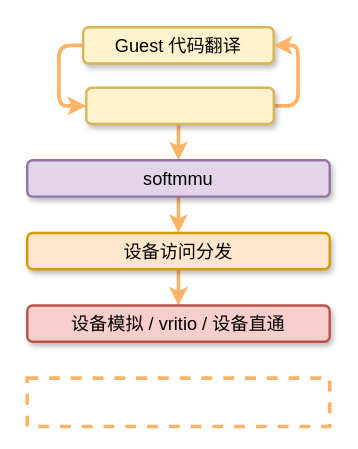
The diagram is 358 pixels wide and 449 high, and some of its shapes have lost their labels. The centre of each missing label's shape, as x and y in pixels:
"Host 操作系统" goes at pixel 178 402.
"翻译代码执行" goes at pixel 181 107.
